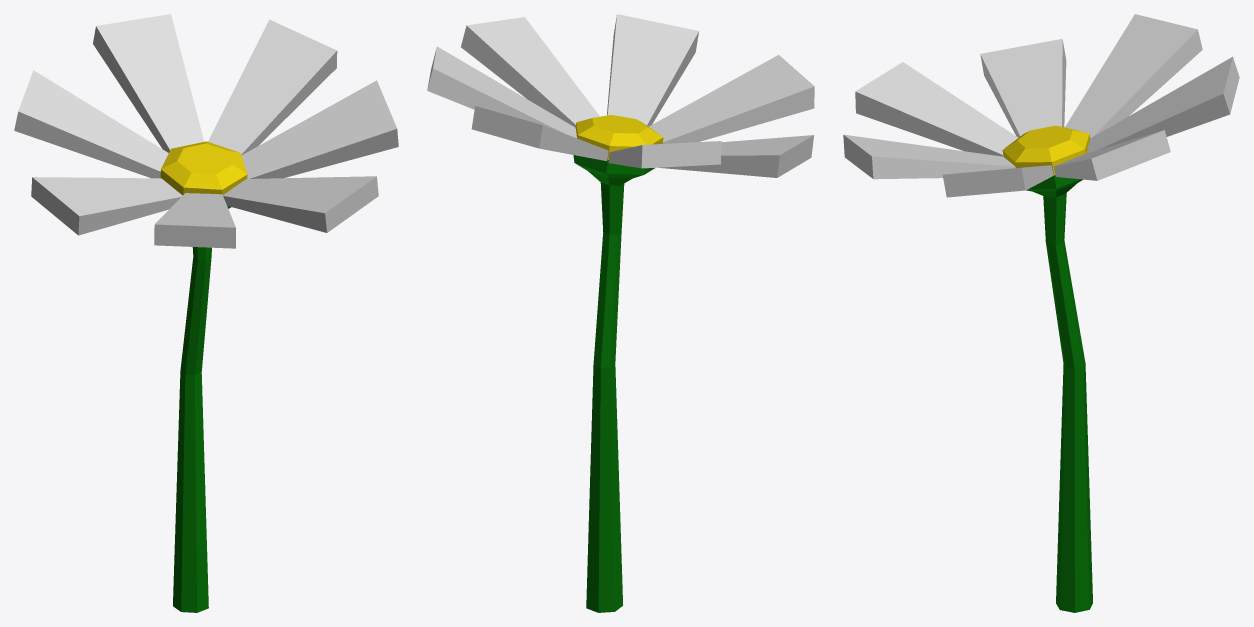
The model's file is FlowerWhite.fbx.
3 renders of one model, left to right at view 1: azimuth 30°, elevation 25°; view 2: azimuth 150°, elevation 25°; view 3: azimuth 270°, elevation 25°, orthographic. The views are drawn at different scales.
Visible parts, largest first — view 1: flower; view 2: flower; view 3: flower.
Boxes of the visible parts, x1=… form: flower: x1=14, y1=14, x2=398, y2=612; flower: x1=427, y1=14, x2=814, y2=612; flower: x1=843, y1=14, x2=1239, y2=612.
Size of the model in its own units: 17.91 by 27.5 by 18.32.
